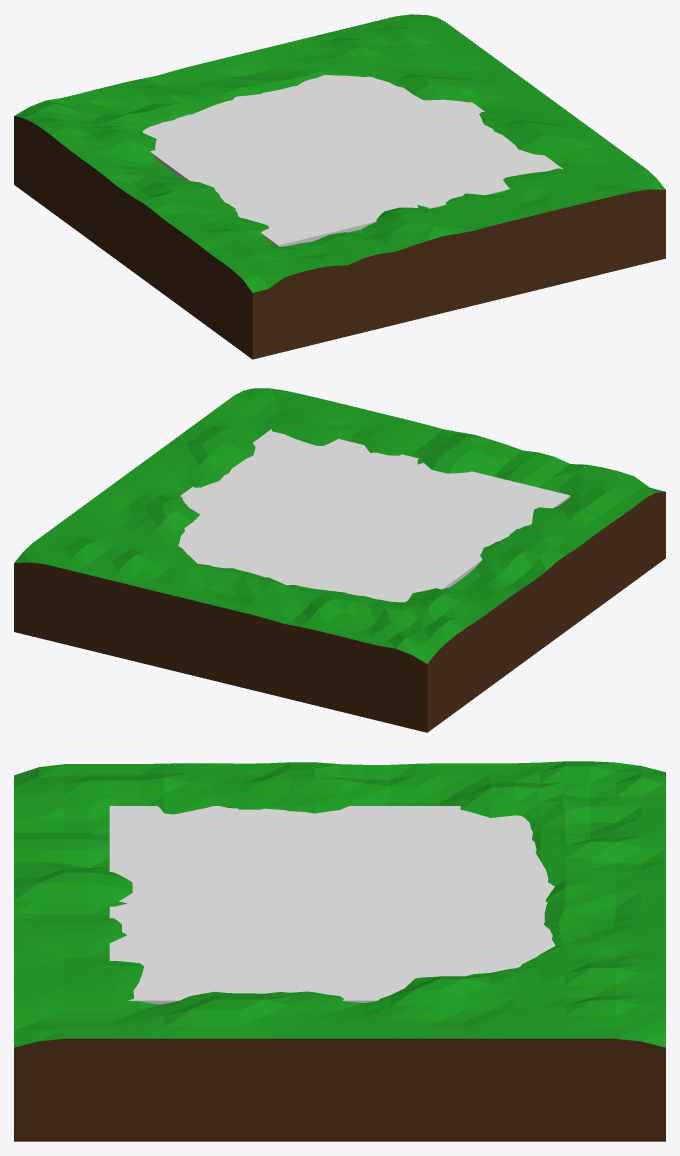
File: PondTest.fbx
3 views of the same model, one above another, from view 1: azimuth 30°, elevation 25°; view 2: azimuth 150°, elevation 25°; view 3: azimuth 270°, elevation 25° (orthographic). The views are drawn at different scales.
Parts seen in each view (by area): view 1: Cube.001, Cube; view 2: Cube.001, Cube; view 3: Cube.001, Cube.
Part boxes in pixels (bbox=[...]): Cube.001: bbox=[14, 14, 665, 359]; Cube: bbox=[142, 75, 563, 246]; Cube.001: bbox=[14, 388, 665, 732]; Cube: bbox=[178, 429, 570, 602]; Cube.001: bbox=[14, 761, 665, 1141]; Cube: bbox=[109, 806, 555, 1004].
Size of the model in its own units: 20033 by 3782 by 20033.
